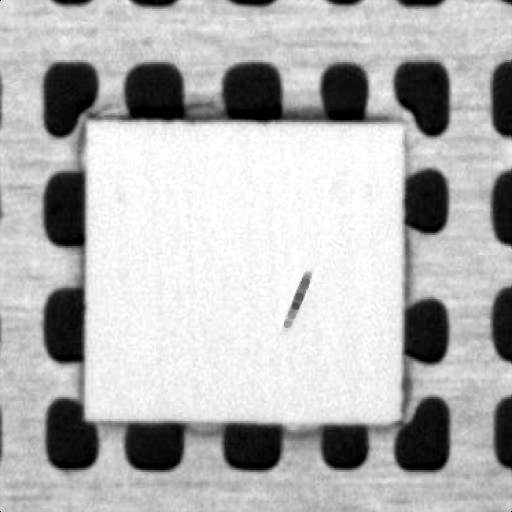DIE_INK: (280, 268, 310, 332)
